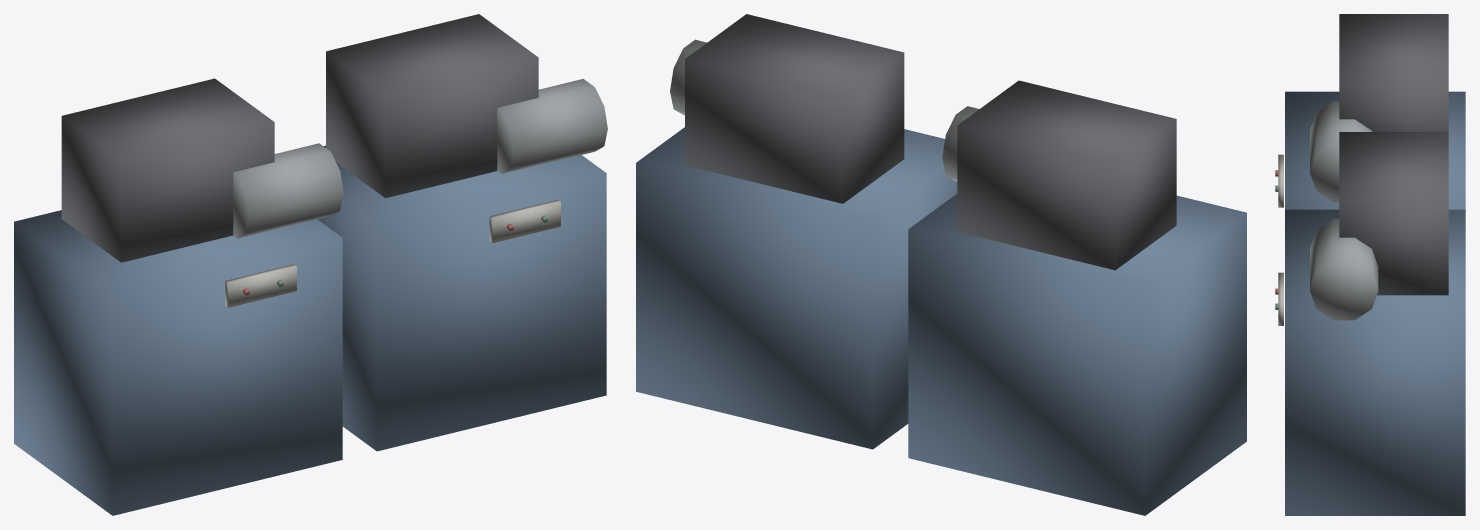
Rendered from library_cart__cluster.glb.
The picture shows the model from 3 angles, left to right: view 1: azimuth 30°, elevation 25°; view 2: azimuth 150°, elevation 25°; view 3: azimuth 270°, elevation 25°; orthographic projection. The views are drawn at different scales.
Visible parts, largest first — view 1: world; view 2: world; view 3: world.
Part boxes in pixels (<box>): world: <box>14,14,607,515</box>; world: <box>636,14,1246,515</box>; world: <box>1275,14,1465,515</box>.
Bounding box in the file's own units: 1.73 × 1.05 × 0.611.
